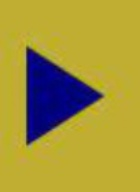ImgButton: (1, 1, 139, 191)
